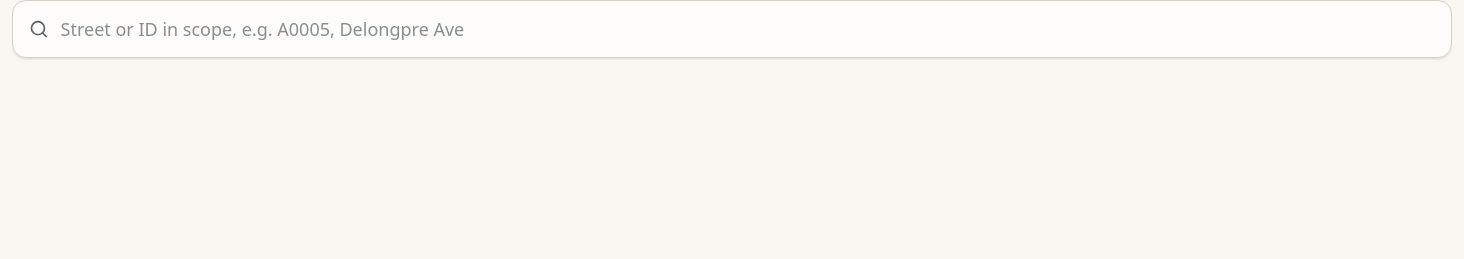
keyboard search › distinguishes failed search from no matches and retries
Focus the dropdown at (748, 29), box [60, 15, 1435, 43]
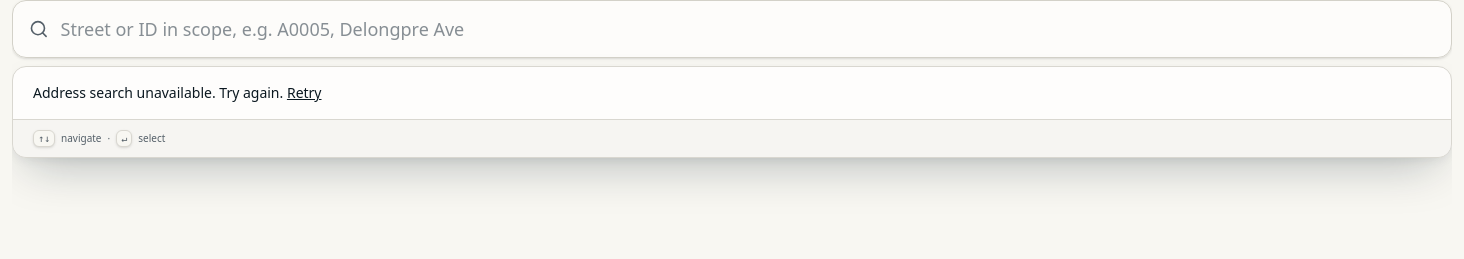
Expected: the message shows "unavailable", [33, 83, 283, 102]
Click the button "Retry" at (304, 93), box [287, 83, 322, 103]
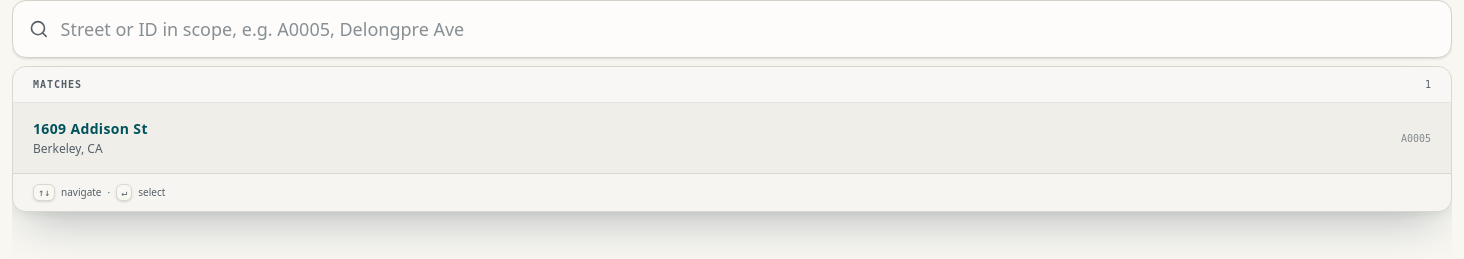
Expected: the message "Address search unavailable. Try again. Retry" is gone
Expected: the option shows "1609 Addison", [13, 103, 1451, 173]
